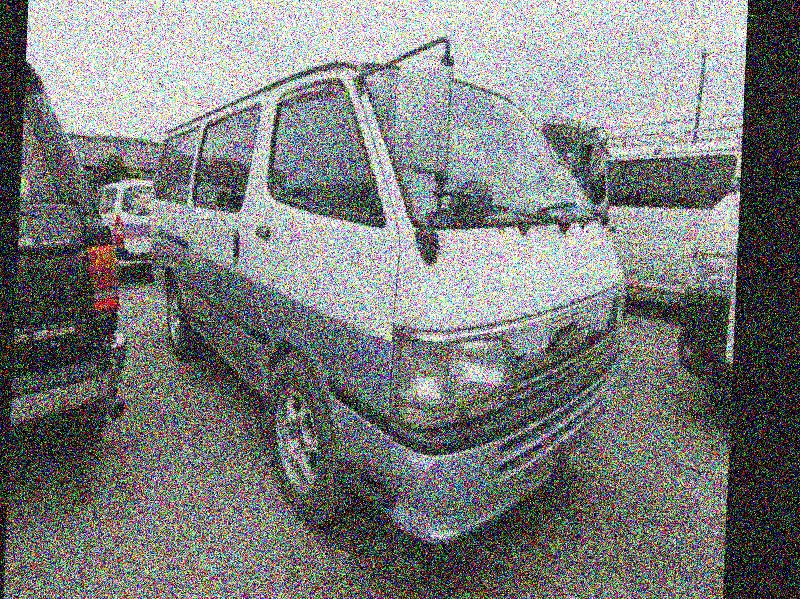van: (121, 29, 639, 541)
